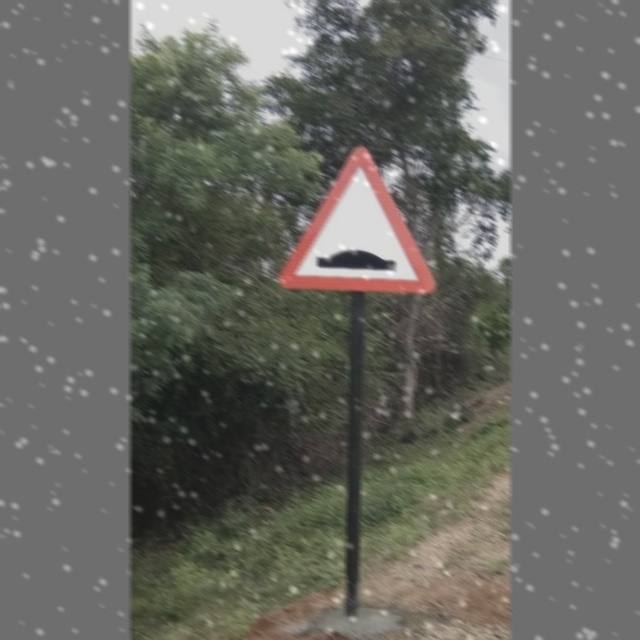Dangerous_Dip: (284, 145, 437, 299)
